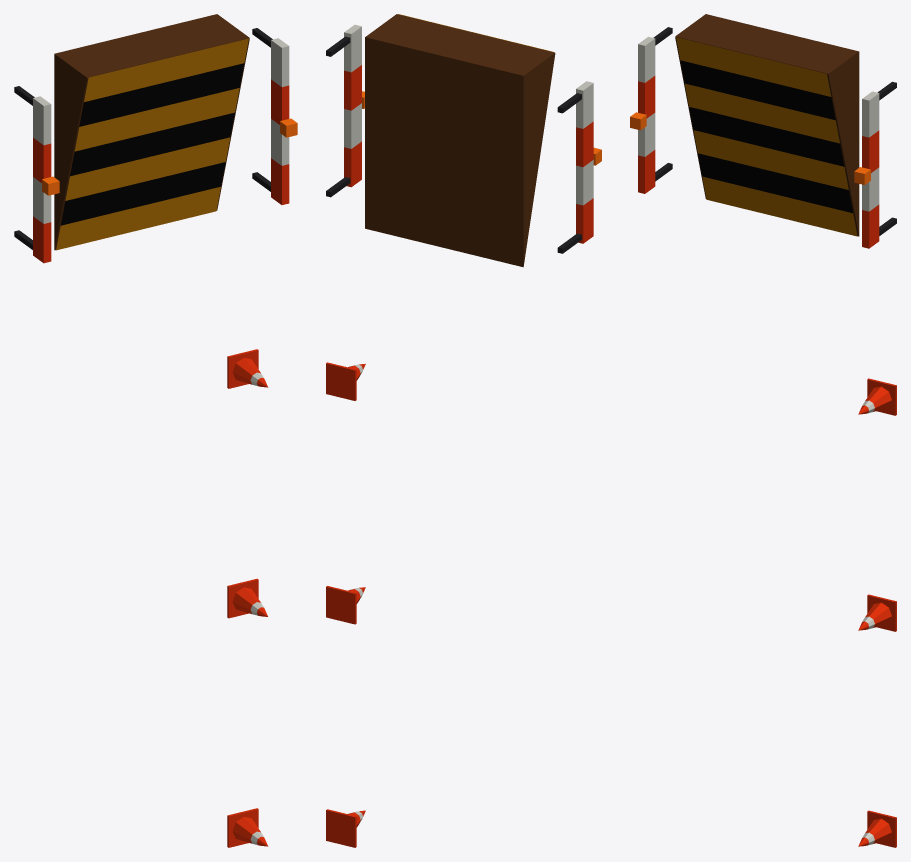
The model's file is ramp.obj.
3 renders of one model, left to right at view 1: azimuth 30°, elevation 25°; view 2: azimuth 150°, elevation 25°; view 3: azimuth 330°, elevation 25°, orthographic. The views are drawn at different scales.
Visible parts, largest first — view 1: ramp; view 2: ramp; view 3: ramp.
Part boxes in pixels (bbox=[...]): ramp: bbox=[14, 14, 297, 847]; ramp: bbox=[326, 14, 601, 847]; ramp: bbox=[630, 14, 896, 847].
Size of the model in its own units: 3.98 by 12.74 by 1.03.
